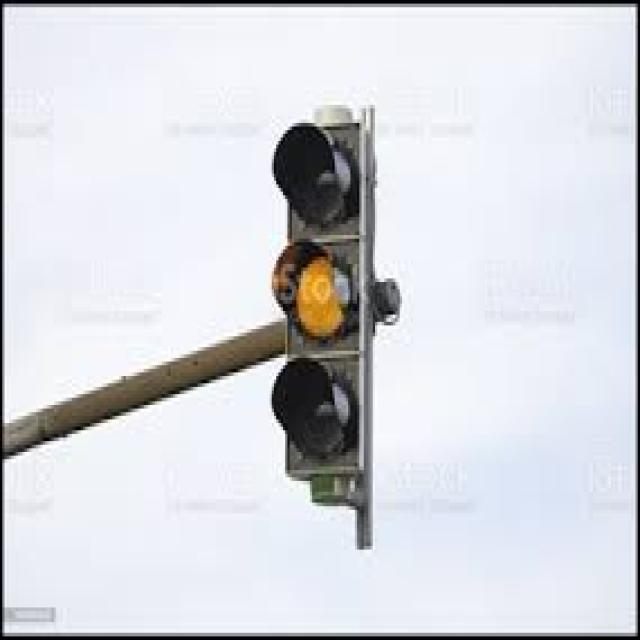yellow_light: (271, 104, 399, 545)
